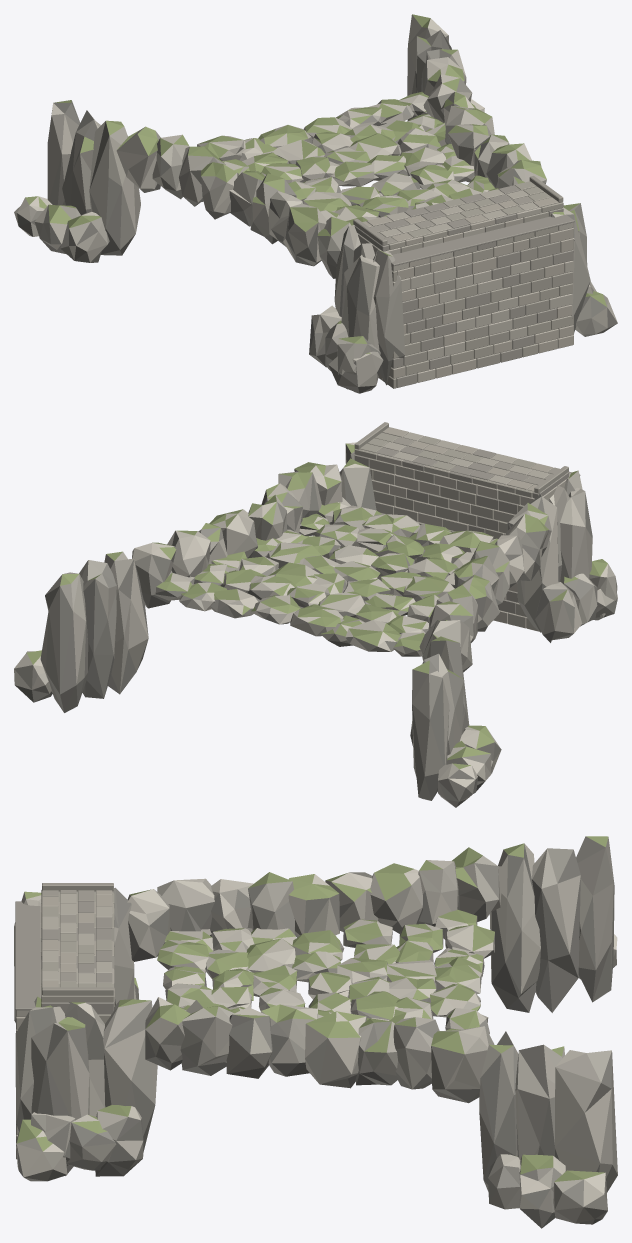
The model's file is cape-v9.glb.
3 views of the same model, one above another, from view 1: azimuth 30°, elevation 25°; view 2: azimuth 150°, elevation 25°; view 3: azimuth 270°, elevation 25° (orthographic). The views are drawn at different scales.
Parts seen in each view (by area): view 1: Cape_Side_Rocks, Cape_Abutment, Cape_Arch_Soffit; view 2: Cape_Side_Rocks, Cape_Arch_Soffit, Cape_Abutment; view 3: Cape_Side_Rocks, Cape_Arch_Soffit, Cape_Abutment.
Part boxes in pixels (<box>): Cape_Side_Rocks: <box>14,14,617,393</box>; Cape_Abutment: <box>353,176,574,388</box>; Cape_Arch_Soffit: <box>197,92,498,225</box>; Cape_Side_Rocks: <box>14,442,617,807</box>; Cape_Arch_Soffit: <box>155,497,497,656</box>; Cape_Abutment: <box>354,422,580,631</box>; Cape_Side_Rocks: <box>14,836,617,1228</box>; Cape_Arch_Soffit: <box>157,909,494,1062</box>; Cape_Abutment: <box>15,883,114,1159</box>.
Bounding box in the file's own units: 46.5 × 14.16 × 44.03.
